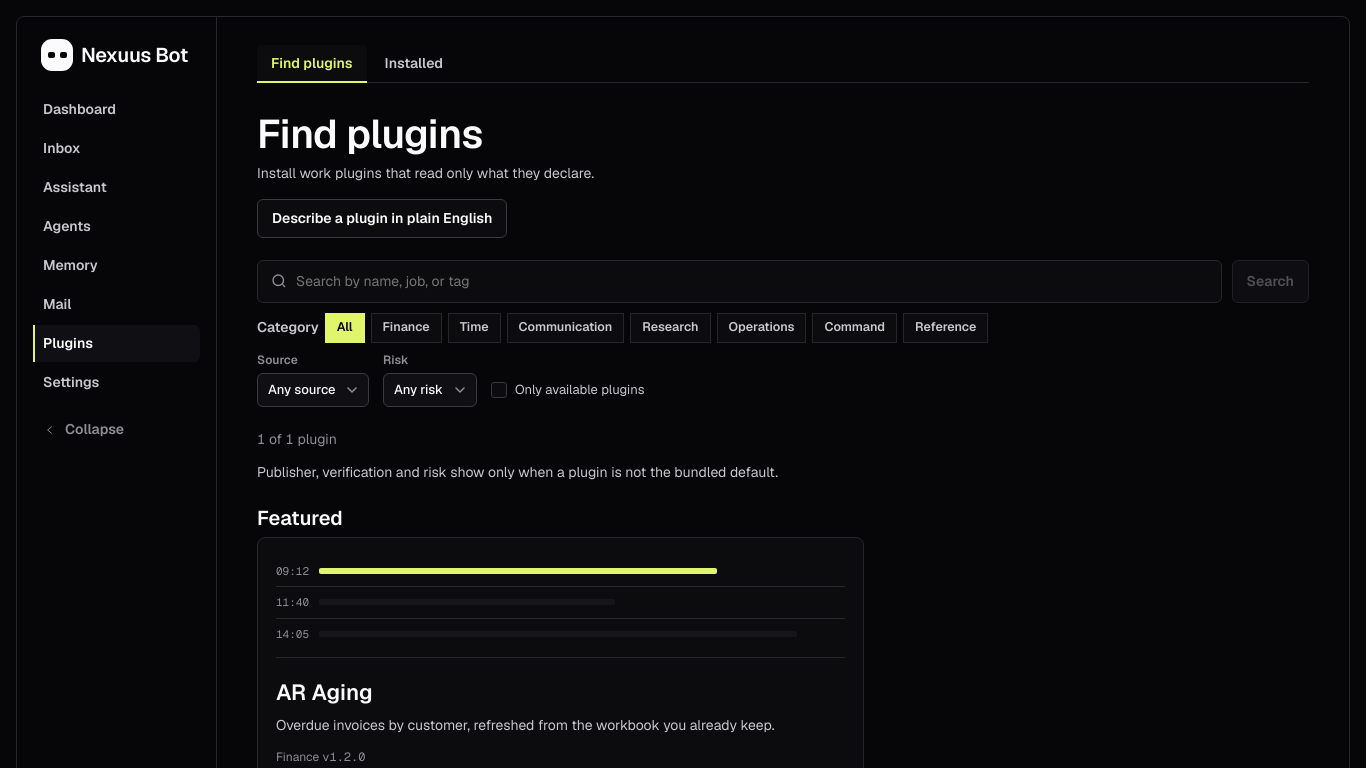
it: describing a plugin (spec 024) › enables the fill after text is typed and starts one request when pressed
Expected: the heading "Find plugins" is shown, [257,108,483,160]
Click the button "Describe a plugin in plain English" at (382, 218), box [257,199,507,238]
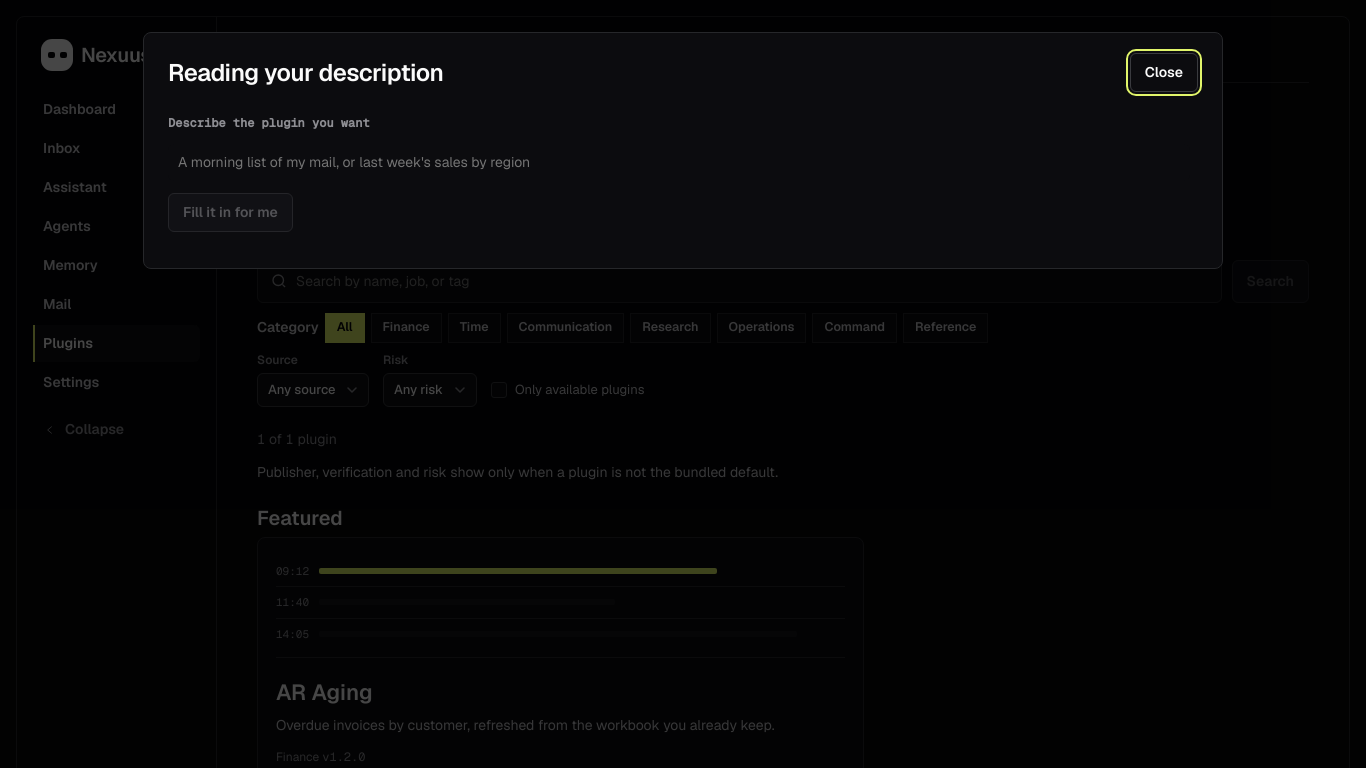
Type "A morning list of my mail" into the field labelled "Describe the plugin you want" at (679, 162), box [168,144,1190,181]
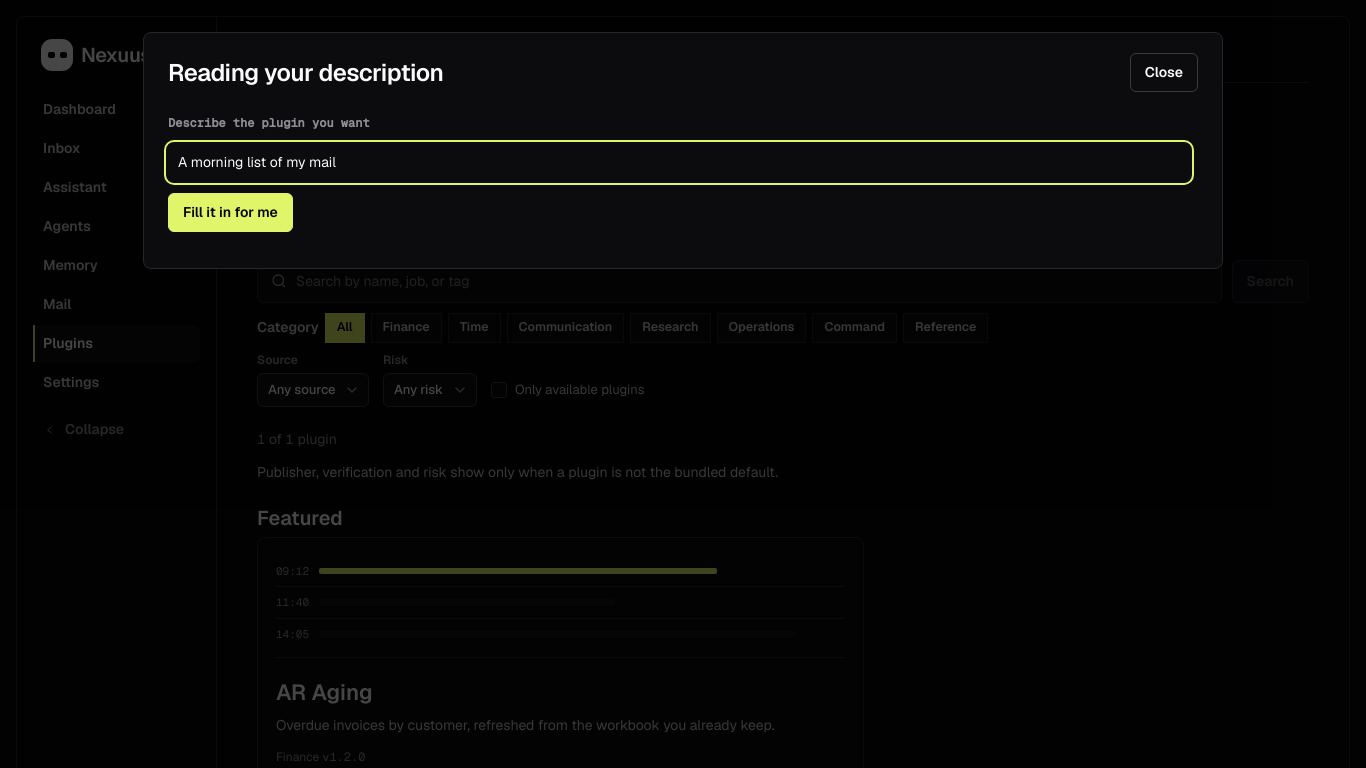
Result: the button "Fill it in for me" is enabled
Click the button "Fill it in for me" at (230, 212), box [168,193,293,232]
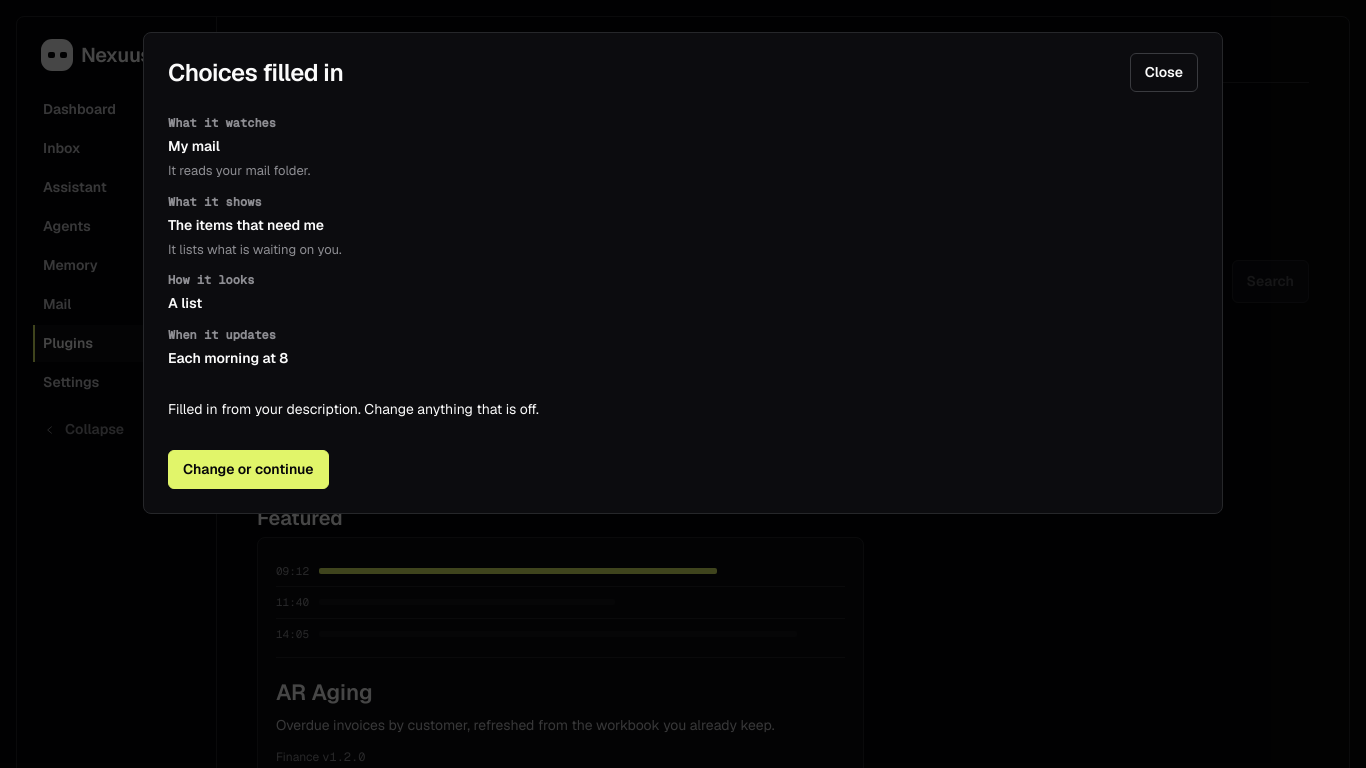
Result: the text "My mail" is shown at [168,137,220,155]
